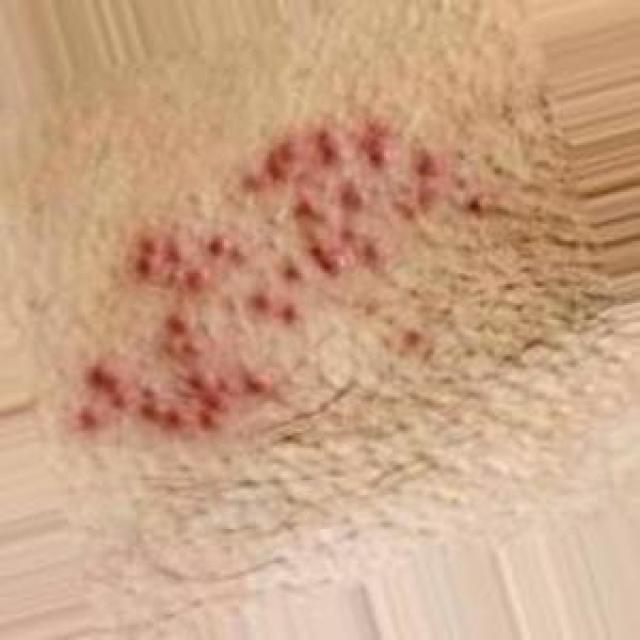Shingles: (68, 121, 481, 431)
